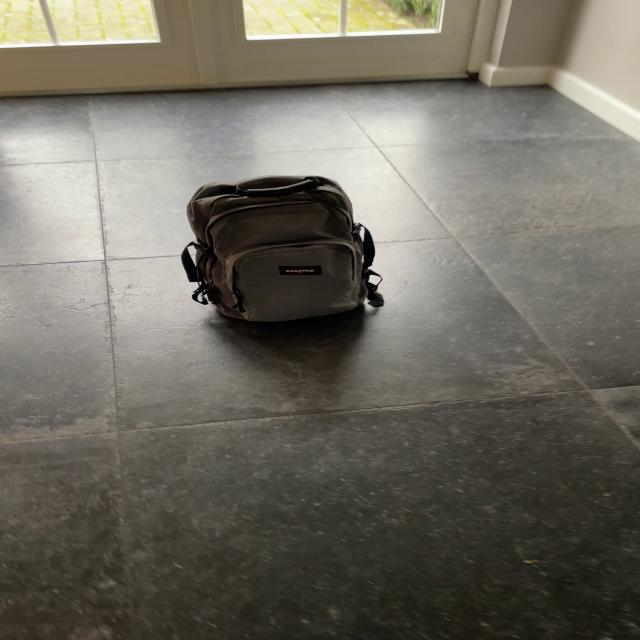backpack: (173, 168, 384, 329)
